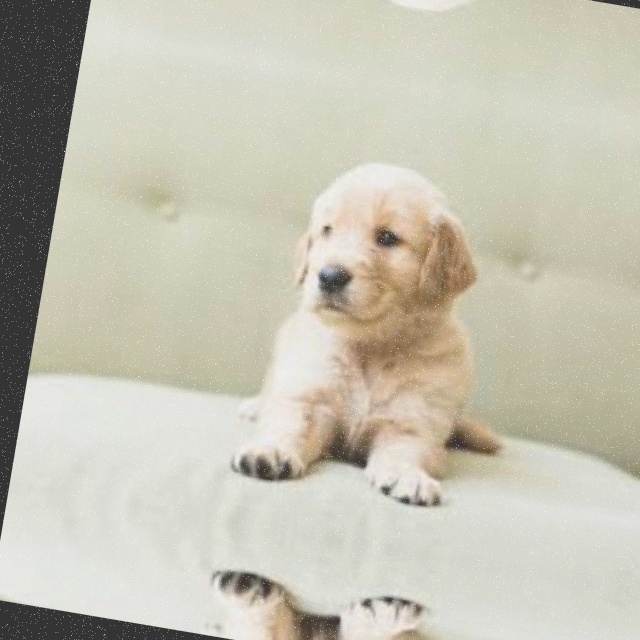dog: (225, 124, 540, 525), (200, 557, 467, 640), (305, 0, 569, 53)
